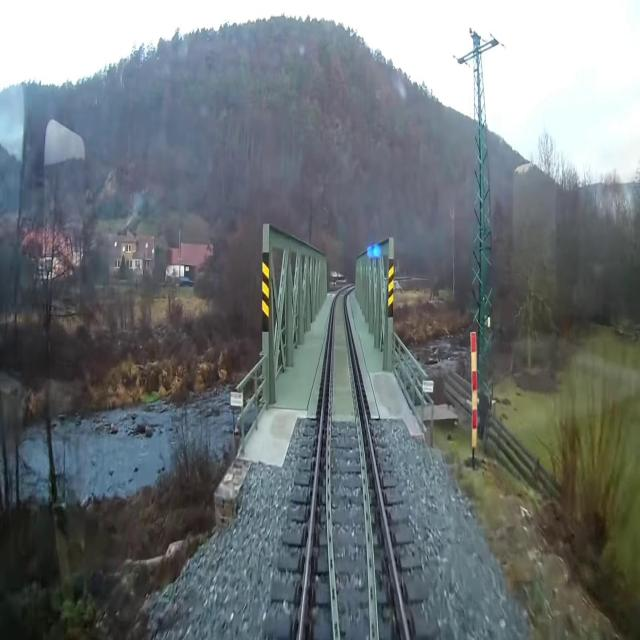rail-track: (302, 288, 405, 639)
